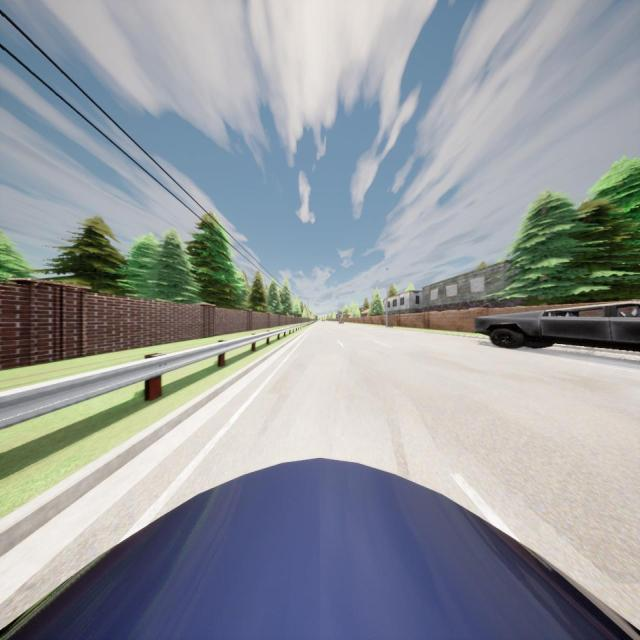Vehicle: (0, 456, 640, 640), (473, 300, 640, 351), (338, 320, 344, 324)
